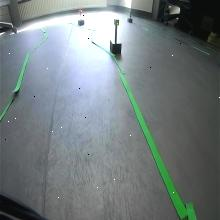green: (113, 17, 120, 26)
